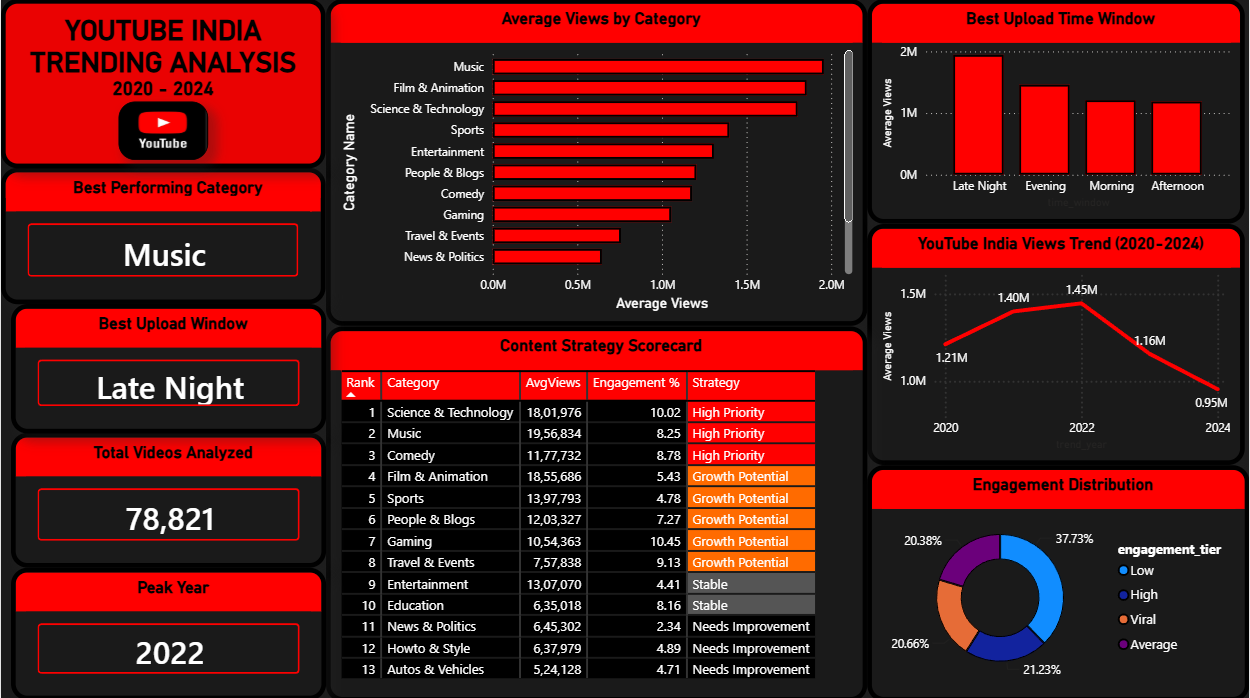

What the dashboard file says about the page in this screenshot:
{"tool":"powerbi","page":{"name":"Page 1","canvas":[1280,720],"ordinal":0},"visuals":[{"type":"clusteredBarChart","title":"Average Views by Category","fields":{"Category":["sql_q1_category_rank.category_name"],"Y":["Avg(sql_q1_category_rank.avg_views)"]},"box":[333,0,555,335.4],"z":0},{"type":"clusteredColumnChart","title":"Best Upload Time Window","fields":{"Category":["sql_q2_upload_time.time_window"],"Y":["Avg(sql_q2_upload_time.avg_views)"]},"box":[887.9,0,387.3,230.4],"z":1000},{"type":"lineChart","title":"YouTube India Views Trend (2020-2024)","fields":{"Y":["Avg(sql_q6_yearly_growth.avg_views)"],"Category":["sql_q6_yearly_growth.trend_year"]},"box":[887.9,230.4,387.3,247.3],"z":2000},{"type":"tableEx","title":"Content Strategy Scorecard","fields":{"Values":["sql_q7_strategy.category_rank","sql_q7_strategy.category_name","sql_q7_strategy.avg_views","sql_q7_strategy.avg_engagement","sql_q7_strategy.strategy_recommendation"]},"box":[333,335.4,555,384.9],"z":3000},{"type":"cardVisual","title":"Total Videos Analyzed","fields":{"Data":["Sum(sql_q1_category_rank.total_videos)"]},"box":[9.7,445.2,323.3,138.7],"z":4000},{"type":"cardVisual","title":"Best Performing Category","fields":{"Data":["sql_q1_category_rank.Top Category"]},"box":[0,172.5,333,139.9],"z":5000},{"type":"cardVisual","title":"Best Upload Window","fields":{"Data":["sql_q2_upload_time.Best Upload Window"]},"box":[9.7,312.5,323.3,132.7],"z":6000},{"type":"cardVisual","title":"Peak Year","fields":{"Data":["Median(sql_q6_yearly_growth.trend_year)"]},"box":[9.7,583.9,323.3,136.3],"z":7000},{"type":"textbox","box":[0,0,333,173.7],"z":8000},{"type":"image","box":[120.6,105,91.7,60.3],"z":9000},{"type":"donutChart","title":"Engagement Distribution","fields":{"Category":["sql_q4_engagement_tier.engagement_tier"],"Y":["Sum(sql_q4_engagement_tier.total_videos)"]},"box":[887.9,477.8,392.1,242.5],"z":10000}]}

Visuals, with their boxes in screenshot pixels (x1, y1, x2, y2), scaled from the page's 1280x720 canvas onto the 1250x698 screenshot:
"Average Views by Category" clusteredBarChart: [325,0,867,325]
"Best Upload Time Window" clusteredColumnChart: [867,0,1245,223]
"YouTube India Views Trend (2020-2024)" lineChart: [867,223,1245,463]
"Content Strategy Scorecard" tableEx: [325,325,867,697]
"Total Videos Analyzed" cardVisual: [9,432,325,566]
"Best Performing Category" cardVisual: [0,167,325,303]
"Best Upload Window" cardVisual: [9,303,325,432]
"Peak Year" cardVisual: [9,566,325,697]
textbox: [0,0,325,168]
image: [118,102,207,160]
"Engagement Distribution" donutChart: [867,463,1249,697]
